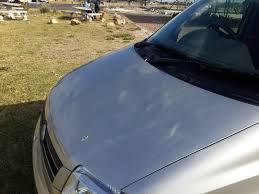bonnet-dent: (51, 57, 205, 173)
